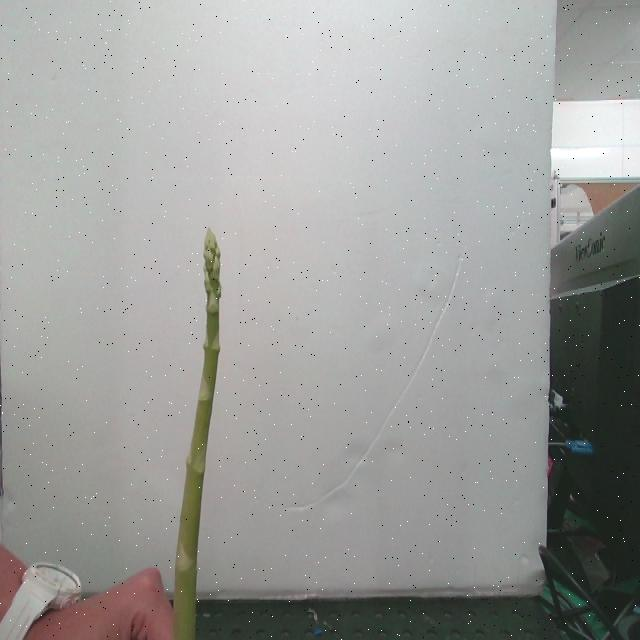aspargus: (172, 230, 220, 640)
